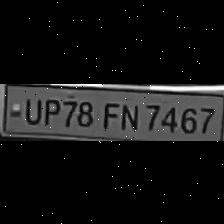4: (159, 102, 177, 132)
6: (177, 103, 197, 133)
7: (141, 100, 159, 132), (198, 104, 216, 134), (58, 96, 74, 127)
8: (74, 96, 96, 128)
F: (98, 98, 119, 130)
N: (118, 99, 140, 131)
P: (41, 95, 61, 125)
U: (21, 94, 41, 124)
